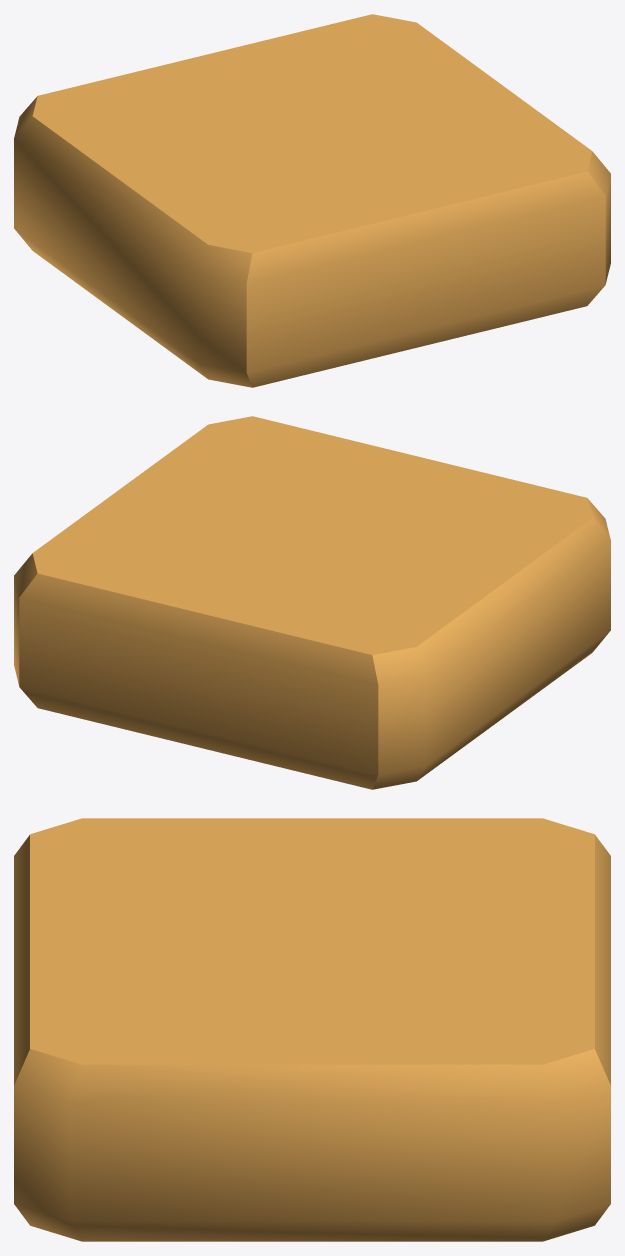
The model's file is Square_01.fbx.
3 renders of one model, top to bottom at view 1: azimuth 30°, elevation 25°; view 2: azimuth 150°, elevation 25°; view 3: azimuth 270°, elevation 25°, orthographic. The views are drawn at different scales.
Visible parts, largest first — view 1: Square_01; view 2: Square_01; view 3: Square_01.
Boxes of the visible parts, box(x1,y1,x2,y2) form: Square_01: box(14, 14, 610, 387); Square_01: box(14, 416, 610, 789); Square_01: box(14, 818, 610, 1241).
Bounding box in the file's own units: 320 × 100 × 306.
